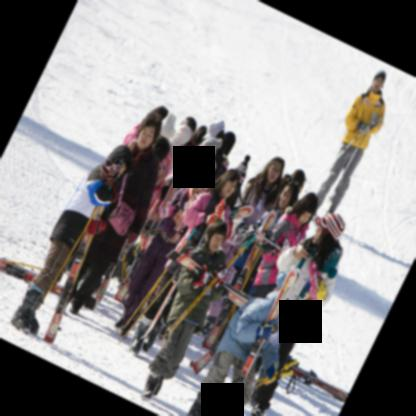handbag: (108, 173, 136, 236), (224, 222, 233, 242)
